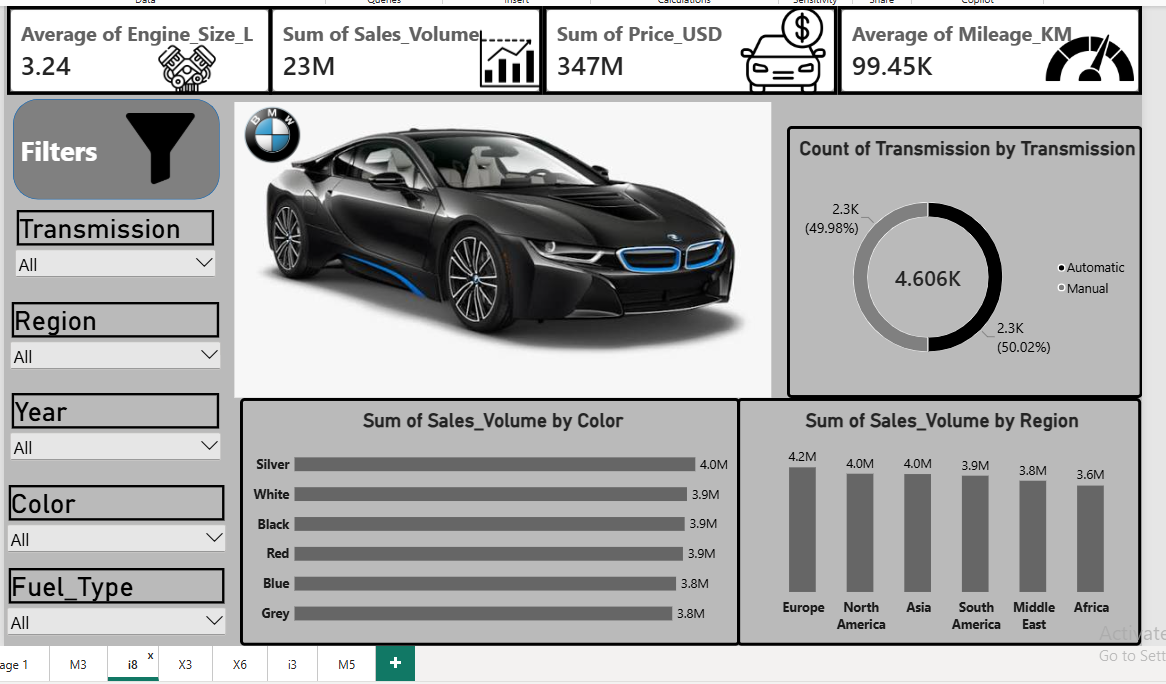

This screenshot's page, from the dashboard's own definition file:
{"tool":"powerbi","page":{"name":"i8","canvas":[1920,1080],"ordinal":2},"visuals":[{"type":"image","box":[362.4,161.9,958.1,499.3],"z":0},{"type":"slicer","fields":{"Values":["BMW_Car_Sales_Classification (1).Year"]},"box":[5.8,653.5,366.3,129.2],"z":1000},{"type":"slicer","fields":{"Values":["BMW_Car_Sales_Classification (1).Region"]},"box":[5.8,499.3,366.3,129.2],"z":2000},{"type":"slicer","fields":{"Values":["BMW_Car_Sales_Classification (1).Transmission"]},"box":[13.5,345.1,348.9,129.2],"z":3000},{"type":"slicer","fields":{"Values":["BMW_Car_Sales_Classification (1).Color"]},"box":[0,807.7,379.8,115.7],"z":4000},{"type":"slicer","fields":{"Values":["BMW_Car_Sales_Classification (1).Fuel_Type"]},"box":[0,948.4,379.8,131.1],"z":5000},{"type":"shape","box":[15.4,156.1,348.9,169.6],"z":6000},{"type":"image","box":[165.8,181.2,196.6,119.5],"z":7000},{"type":"image","box":[320,133,264.1,167.7],"z":8000},{"type":"barChart","fields":{"Category":["BMW_Car_Sales_Classification (1).Color"],"Y":["Sum(BMW_Car_Sales_Classification (1).Sales_Volume)"]},"box":[399,661.2,844.3,418.3],"z":9000},{"type":"columnChart","fields":{"Category":["BMW_Car_Sales_Classification (1).Region"],"Y":["Sum(BMW_Car_Sales_Classification (1).Sales_Volume)"]},"box":[1237.6,661.2,682.4,418.3],"z":10000},{"type":"donutChart","fields":{"Category":["BMW_Car_Sales_Classification (1).Transmission"],"Y":["CountNonNull(BMW_Car_Sales_Classification (1).Transmission)"]},"box":[1320.5,202.4,599.5,458.8],"z":11000},{"type":"cardVisual","fields":{"Data":["Sum(BMW_Car_Sales_Classification (1).Sales_Volume)"]},"box":[447.2,0,462.7,150.4],"z":12000},{"type":"cardVisual","fields":{"Data":["Sum(BMW_Car_Sales_Classification (1).Price_USD)"]},"box":[909.9,0,497.3,150.4],"z":13000},{"type":"cardVisual","fields":{"Data":["Avg(BMW_Car_Sales_Classification (1).Mileage_KM)"]},"box":[1407.2,0,513,150],"z":14000},{"type":"image","box":[1224.1,1.9,183.1,148.4],"z":15000},{"type":"image","box":[801.9,0,108,177.3],"z":17000},{"type":"image","box":[1744.6,13.5,175.4,148.4],"z":18000},{"type":"cardVisual","fields":{"Data":["Avg(BMW_Car_Sales_Classification (1).Engine_Size_L)"]},"box":[5.8,0,447.2,150.4],"z":19000},{"type":"image","box":[165.8,59.8,287.2,96.4],"z":20000}]}

Visuals, with their boxes on the page's 1920x1080 design canvas (x1, y1, x2, y2). These are canvas units, not pixel positions in the 1166x684 screenshot, which may show the page scaled, cropped or inside an application window:
image: bbox=[362, 162, 1320, 661]
slicer - BMW_Car_Sales_Classification (1).Year: bbox=[6, 654, 372, 783]
slicer - BMW_Car_Sales_Classification (1).Region: bbox=[6, 499, 372, 628]
slicer - BMW_Car_Sales_Classification (1).Transmission: bbox=[14, 345, 362, 474]
slicer - BMW_Car_Sales_Classification (1).Color: bbox=[0, 808, 380, 923]
slicer - BMW_Car_Sales_Classification (1).Fuel_Type: bbox=[0, 948, 380, 1080]
shape: bbox=[15, 156, 364, 326]
image: bbox=[166, 181, 362, 301]
image: bbox=[320, 133, 584, 301]
barChart - BMW_Car_Sales_Classification (1).Color x Sum(BMW_Car_Sales_Classification (1).Sales_Volume): bbox=[399, 661, 1243, 1080]
columnChart - BMW_Car_Sales_Classification (1).Region x Sum(BMW_Car_Sales_Classification (1).Sales_Volume): bbox=[1238, 661, 1920, 1080]
donutChart - BMW_Car_Sales_Classification (1).Transmission x CountNonNull(BMW_Car_Sales_Classification (1).Transmission): bbox=[1320, 202, 1920, 661]
cardVisual - Sum(BMW_Car_Sales_Classification (1).Sales_Volume): bbox=[447, 0, 910, 150]
cardVisual - Sum(BMW_Car_Sales_Classification (1).Price_USD): bbox=[910, 0, 1407, 150]
cardVisual - Avg(BMW_Car_Sales_Classification (1).Mileage_KM): bbox=[1407, 0, 1920, 150]
image: bbox=[1224, 2, 1407, 150]
image: bbox=[802, 0, 910, 177]
image: bbox=[1745, 14, 1920, 162]
cardVisual - Avg(BMW_Car_Sales_Classification (1).Engine_Size_L): bbox=[6, 0, 453, 150]
image: bbox=[166, 60, 453, 156]
